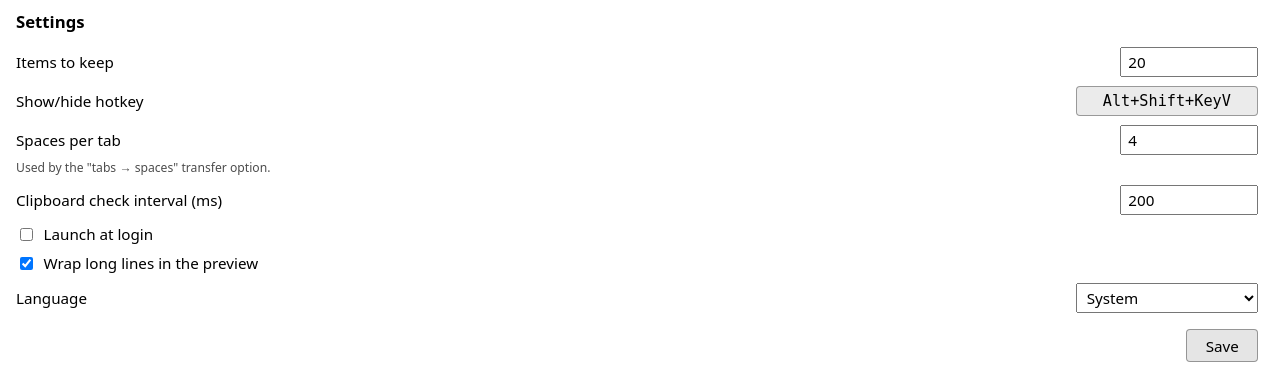
Test: SettingsWindow — hotkey recorder › abandons recording on Escape and keeps the previous hotkey
Check: the number field labelled "Items to keep" is shown, box [1120,47,1258,77]
Click the button named "Show/hide hotkey" at (1167, 101), box [1076,86,1258,116]
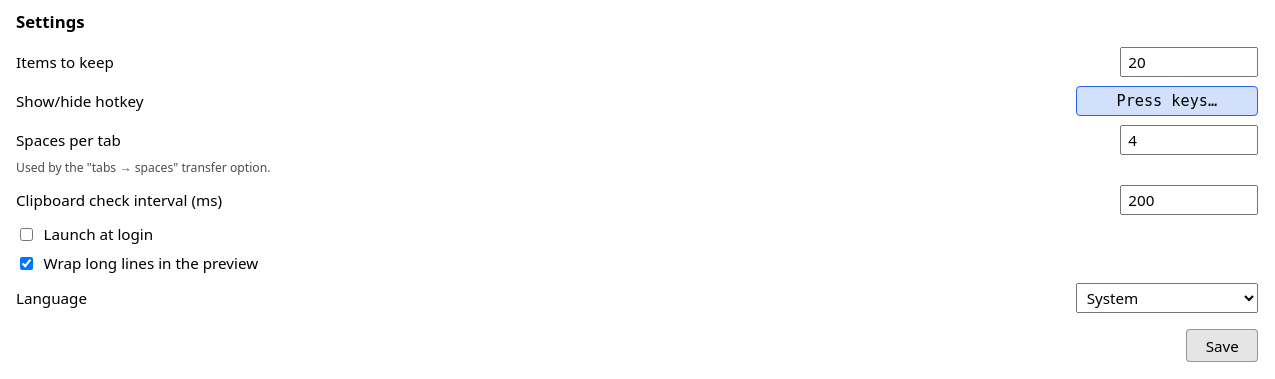
Press Escape
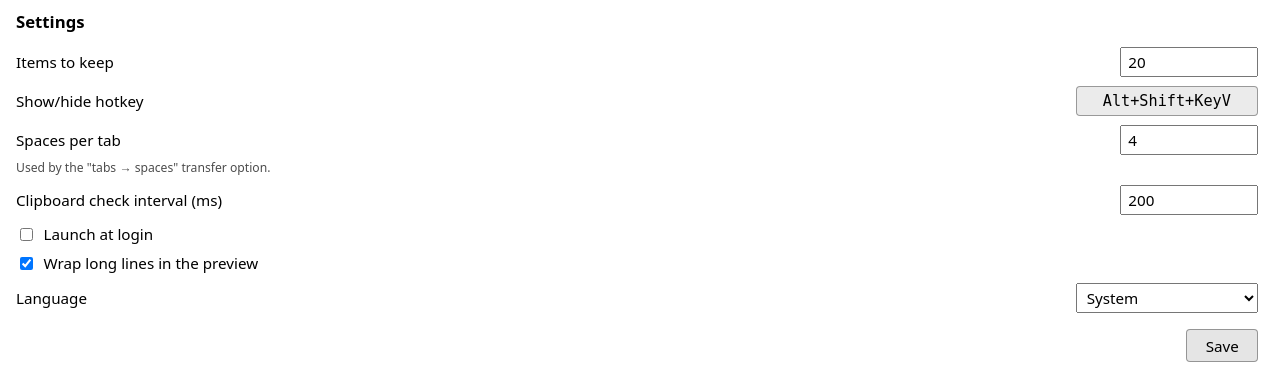
Check: the button named "Show/hide hotkey" reads "Alt+Shift+KeyV", box [1076,86,1258,116]
